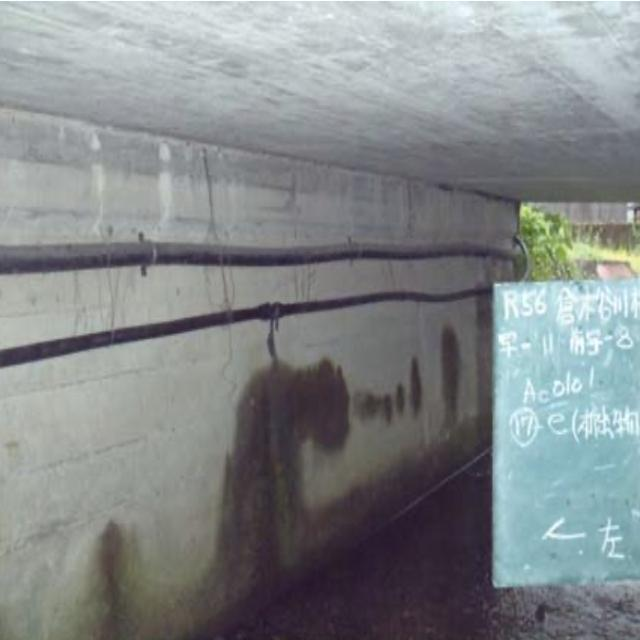leakage: (179, 359, 364, 550), (431, 323, 470, 416)
